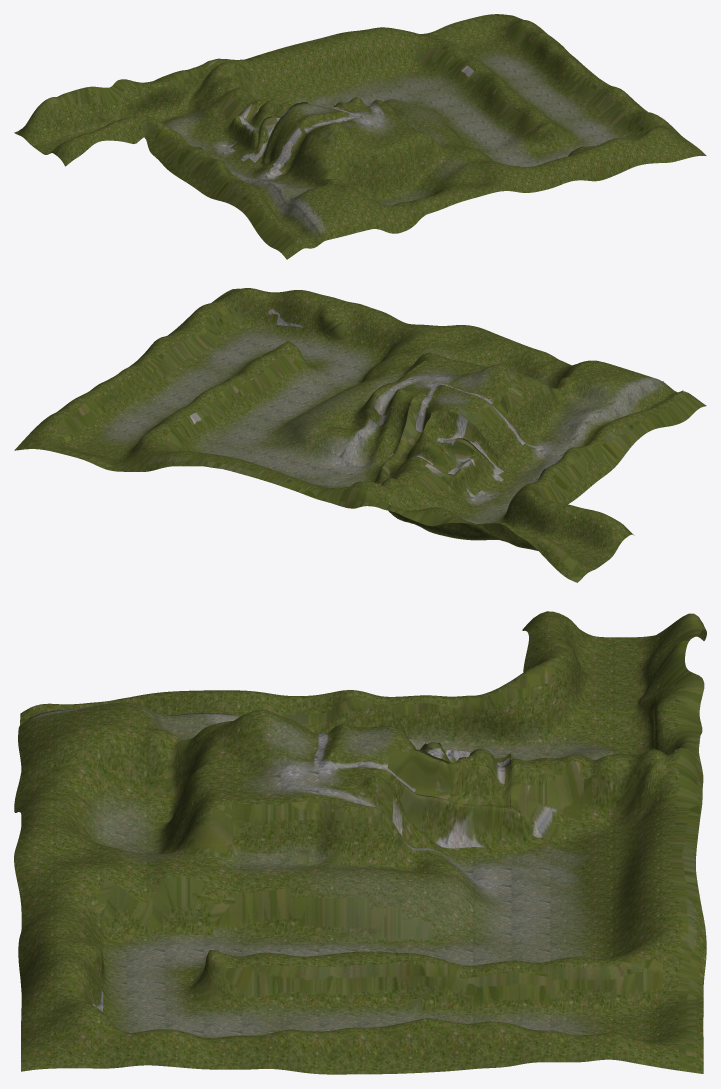
The model's file is OE TERRAIN.fbx.
3 views of the same model, one above another, from view 1: azimuth 30°, elevation 25°; view 2: azimuth 150°, elevation 25°; view 3: azimuth 270°, elevation 25° (orthographic). The views are drawn at different scales.
Parts seen in each view (by area): view 1: polySurface56, polySurface57; view 2: polySurface56, polySurface57; view 3: polySurface56, polySurface57.
Boxes of the visible parts, <box> form: polySurface56: <box>14,14,706,259</box>; polySurface57: <box>197,101,410,242</box>; polySurface56: <box>14,288,706,582</box>; polySurface57: <box>385,360,683,477</box>; polySurface56: <box>14,611,706,1074</box>; polySurface57: <box>28,700,511,819</box>.
Bounding box in the file's own units: 17059 × 2013 × 11611.
